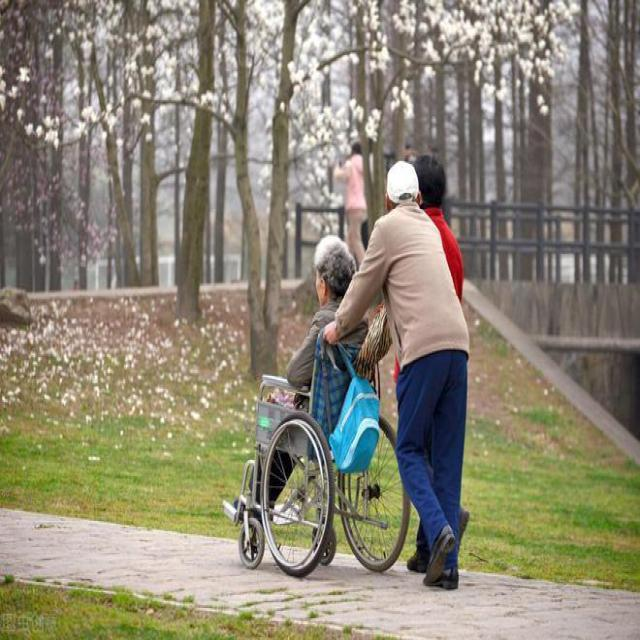wheelchairs: (216, 316, 424, 602)
